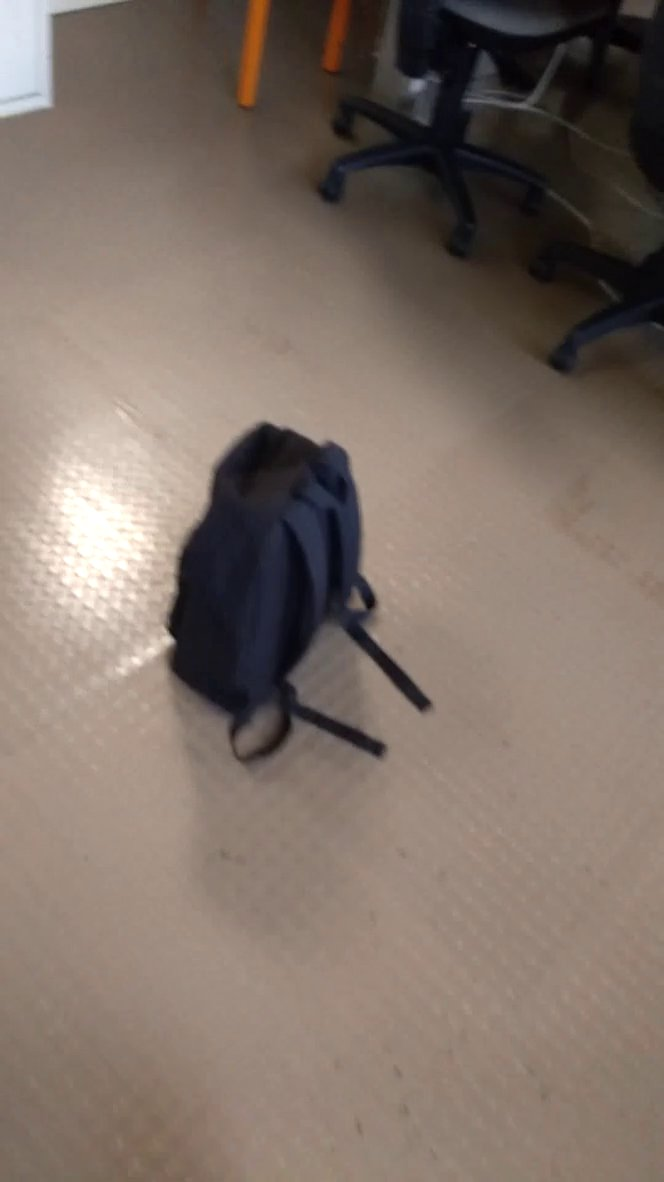bag: (158, 411, 459, 778)
